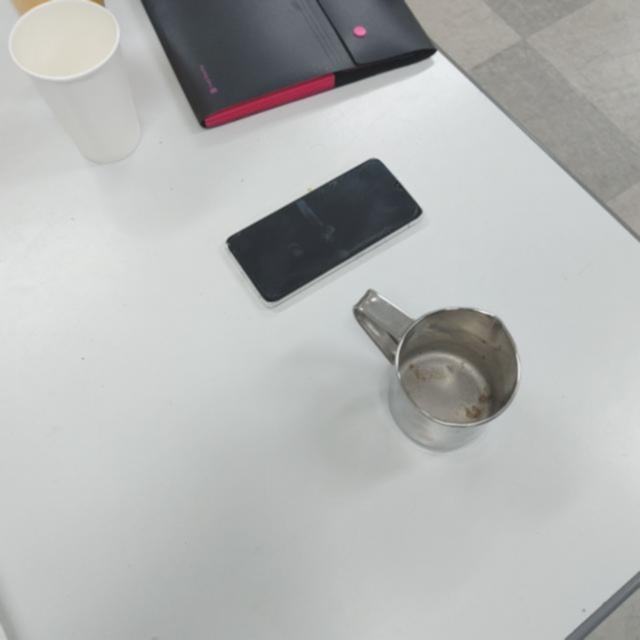cup: (354, 287, 524, 454)
phone: (225, 154, 426, 310)
